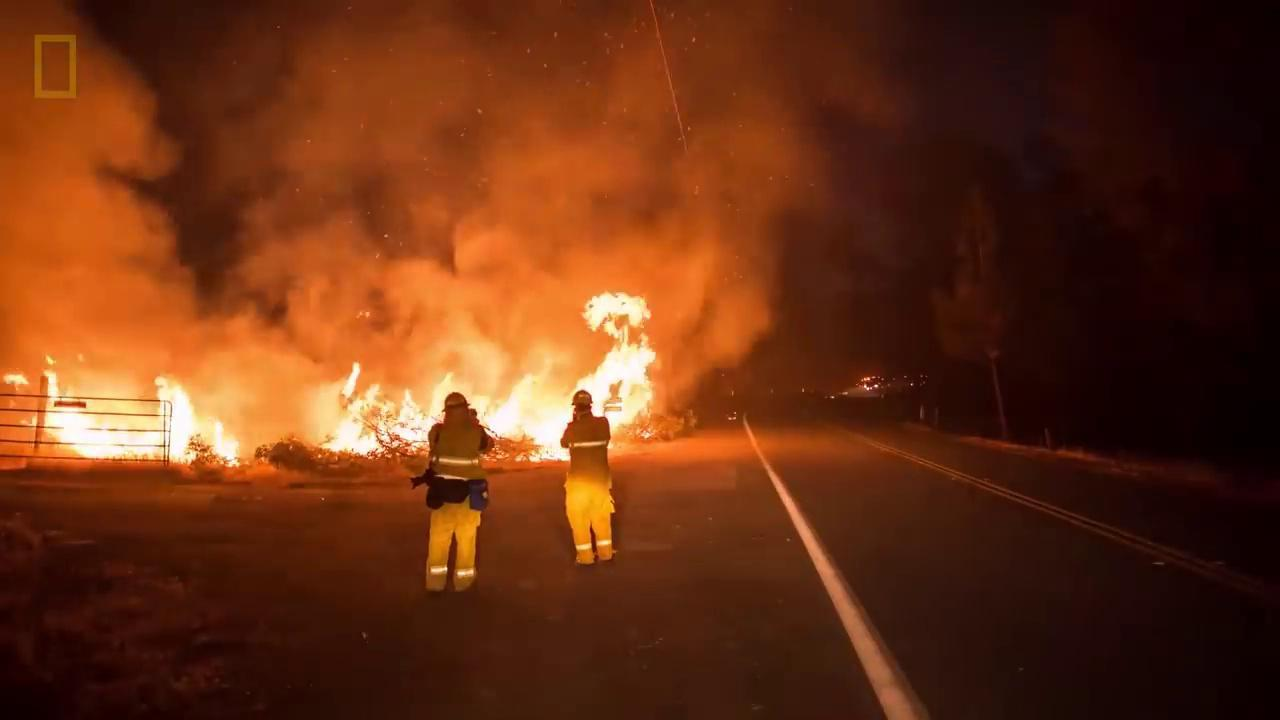Fire: (326, 299, 665, 464), (4, 369, 247, 464)
